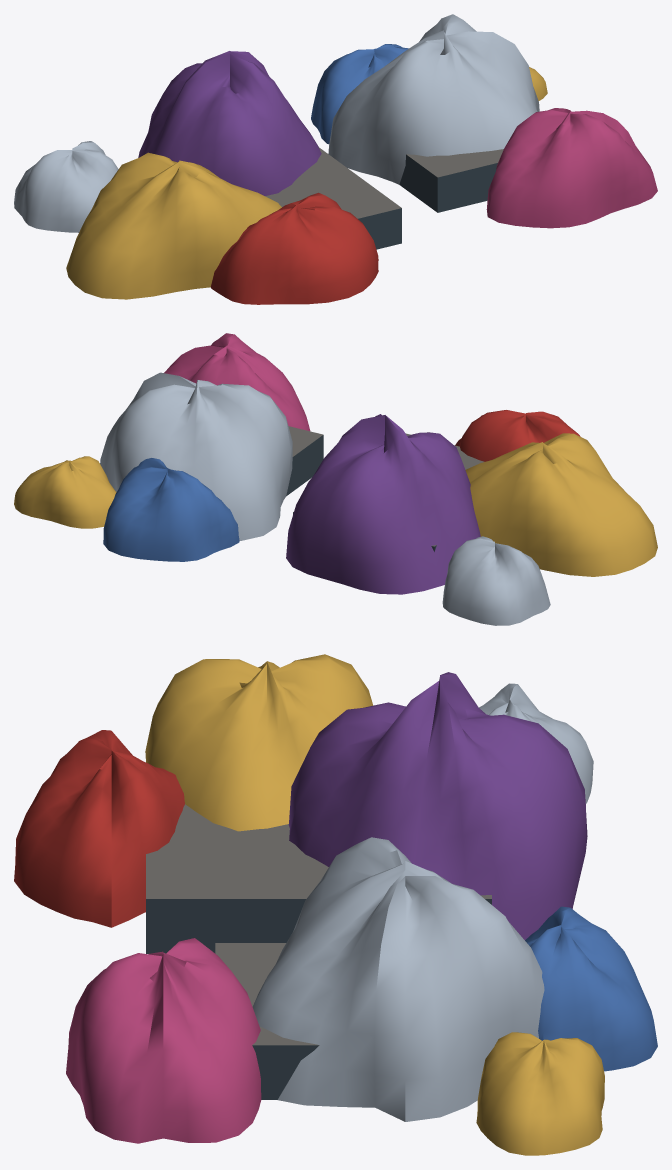
Rendered from mopop.glb.
3 views of the same model, one above another, from view 1: azimuth 30°, elevation 25°; view 2: azimuth 150°, elevation 25°; view 3: azimuth 270°, elevation 25° (orthographic). The views are drawn at different scales.
Visible parts, largest first — view 1: mopop; view 2: mopop; view 3: mopop.
Boxes of the visible parts, bbox=[...] form: mopop: bbox=[14, 14, 657, 304]; mopop: bbox=[14, 333, 657, 625]; mopop: bbox=[14, 654, 657, 1155].
Size of the model in its own units: 115 by 28.1 by 74.48.
1 material, 1 textured.
